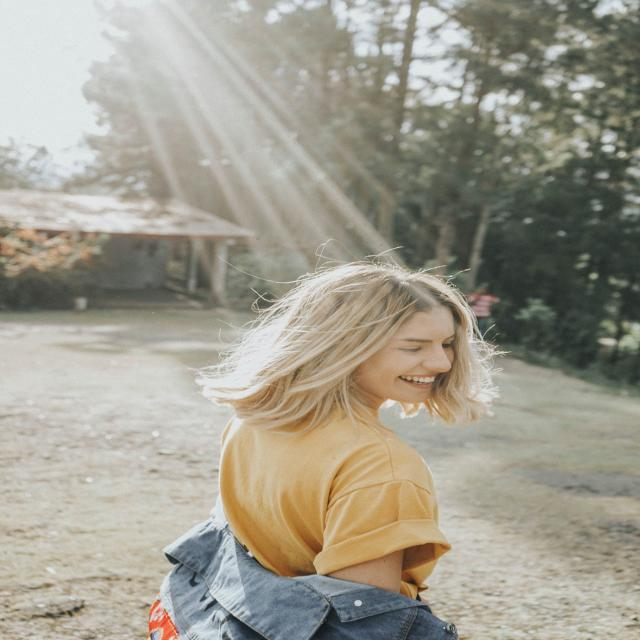adult: (220, 265, 472, 640)
